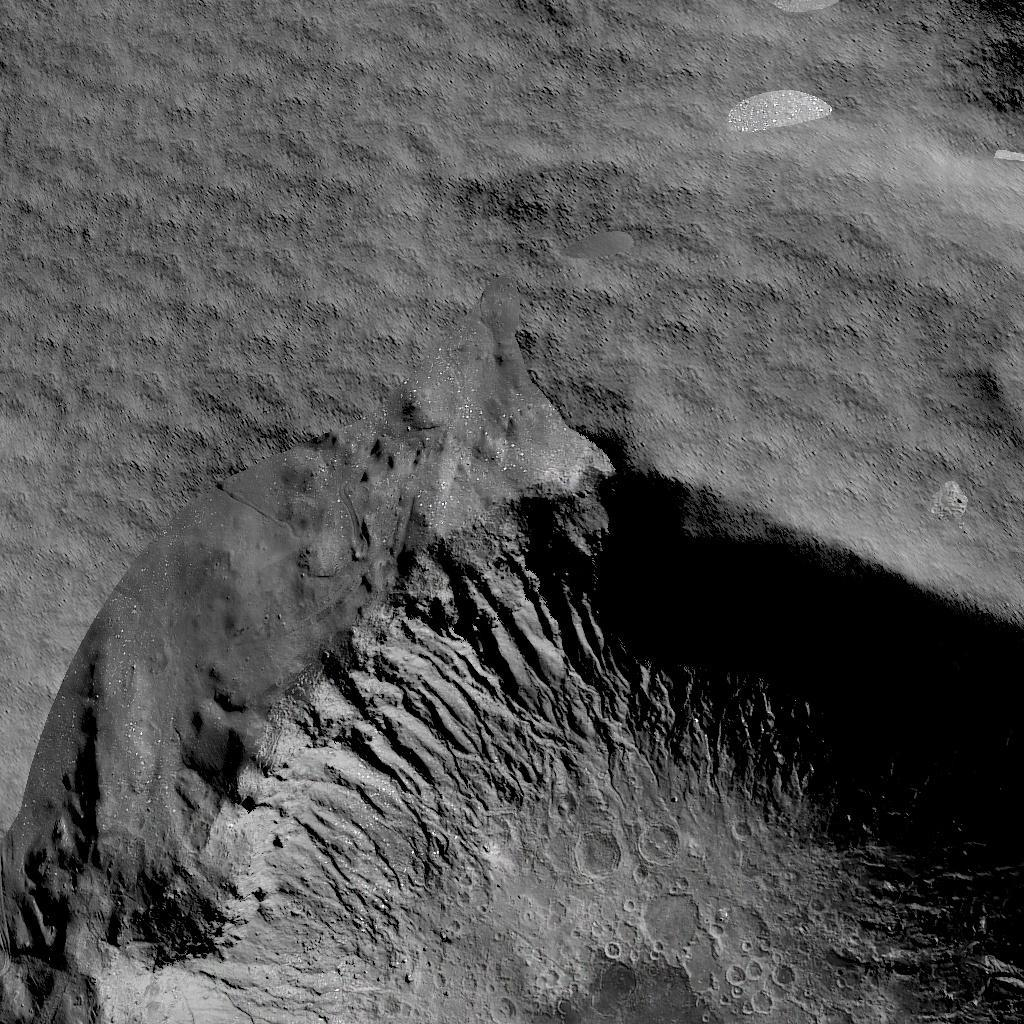Boulders: (4, 0, 50, 91)
Crater: (0, 448, 1024, 1020), (930, 0, 1024, 138)
Plan surface: (80, 0, 918, 421)
